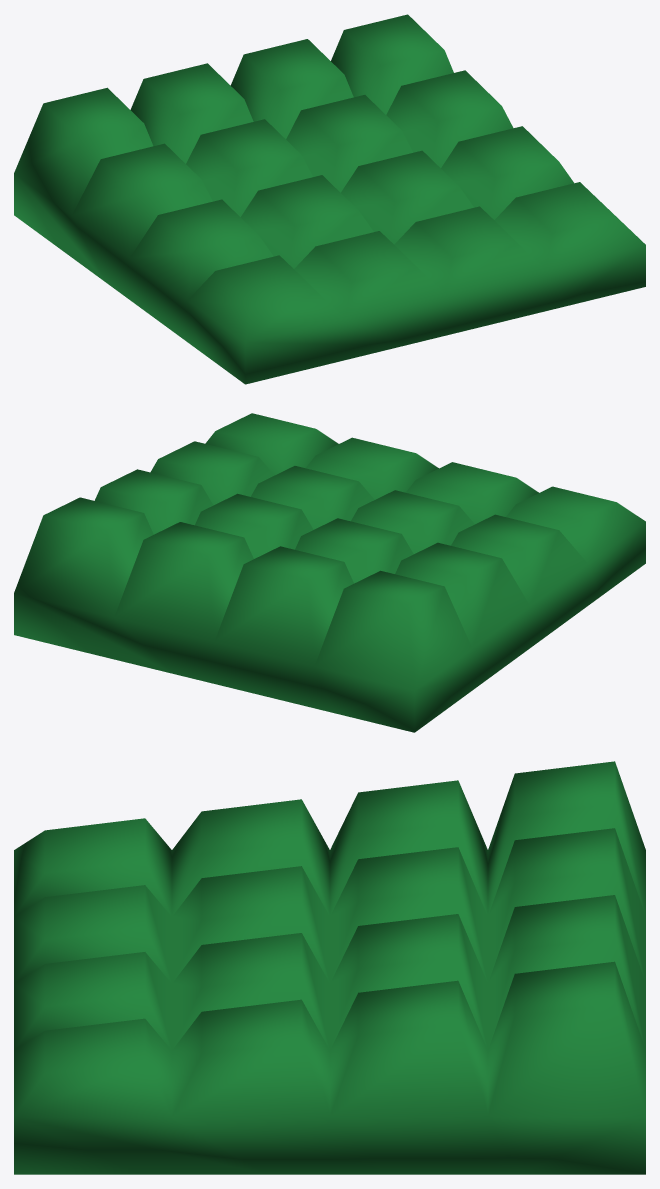
The model's file is newceling.glb.
3 views of the same model, one above another, from view 1: azimuth 30°, elevation 25°; view 2: azimuth 150°, elevation 25°; view 3: azimuth 270°, elevation 25° (orthographic). The views are drawn at different scales.
Parts seen in each view (by area): view 1: Plane.001; view 2: Plane.001; view 3: Plane.001.
Boxes of the visible parts, x1,y1,x2,y2 form: Plane.001: (14,14,645,384); Plane.001: (14,413,645,732); Plane.001: (14,761,645,1174).
Bounding box in the file's own units: 2 × 0.5523 × 2.
